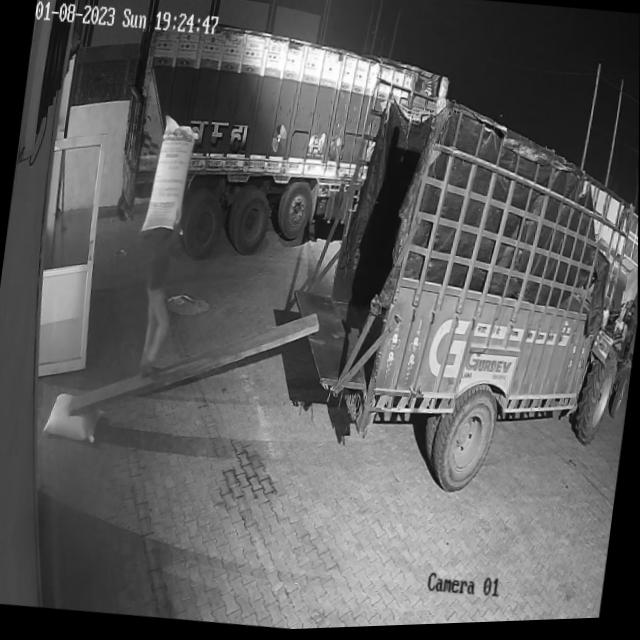sack: (141, 113, 200, 238), (42, 389, 105, 446)
